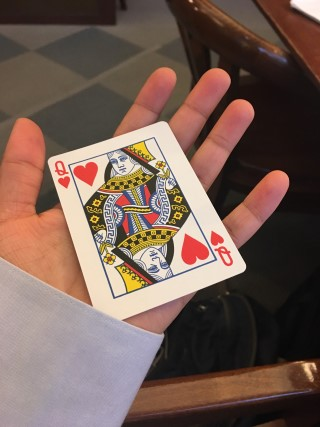QueenOfHearts: (47, 121, 247, 319)
